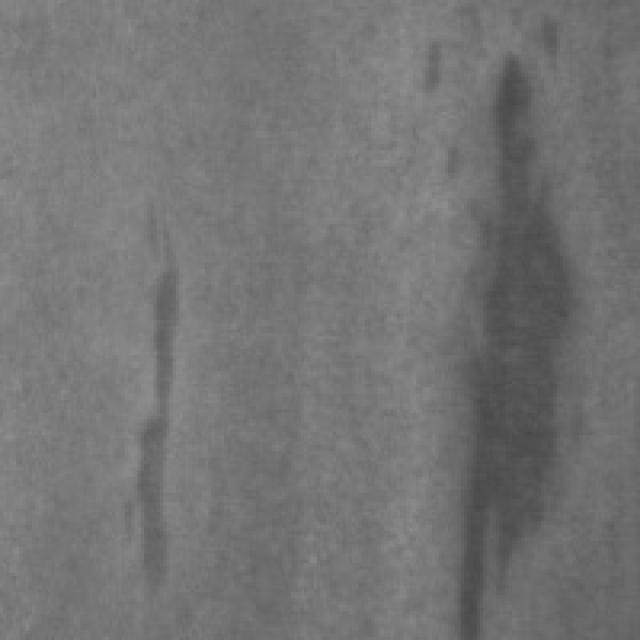inclusion: (438, 35, 580, 634), (109, 192, 192, 621), (404, 32, 454, 106)
